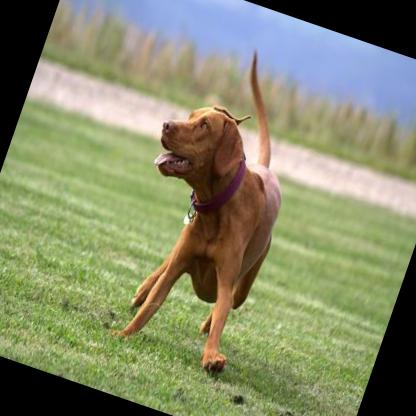vizsla: (87, 24, 331, 383)
